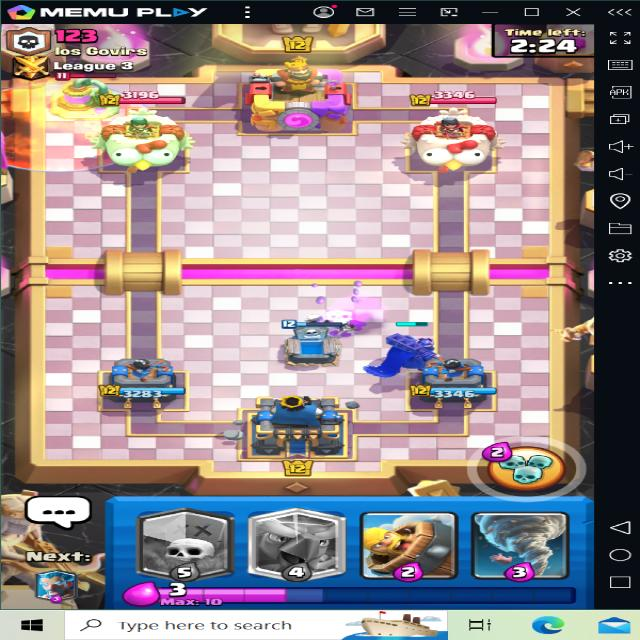elixir-collector: (49, 69, 126, 117)
